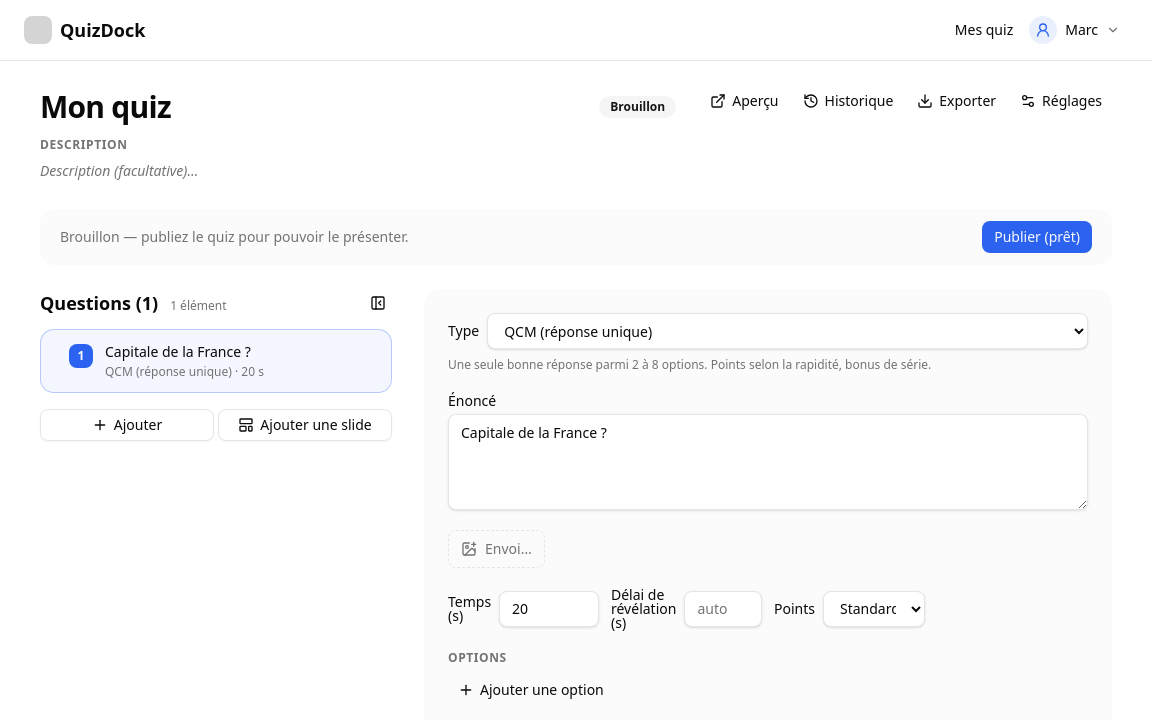
Test case: EditorPage › affiche les avis des joueurs (moyenne + commentaires) côté propriétaire
Click the button "Réglages". click: point(1061, 101)
box: [1010,85,1112,117]
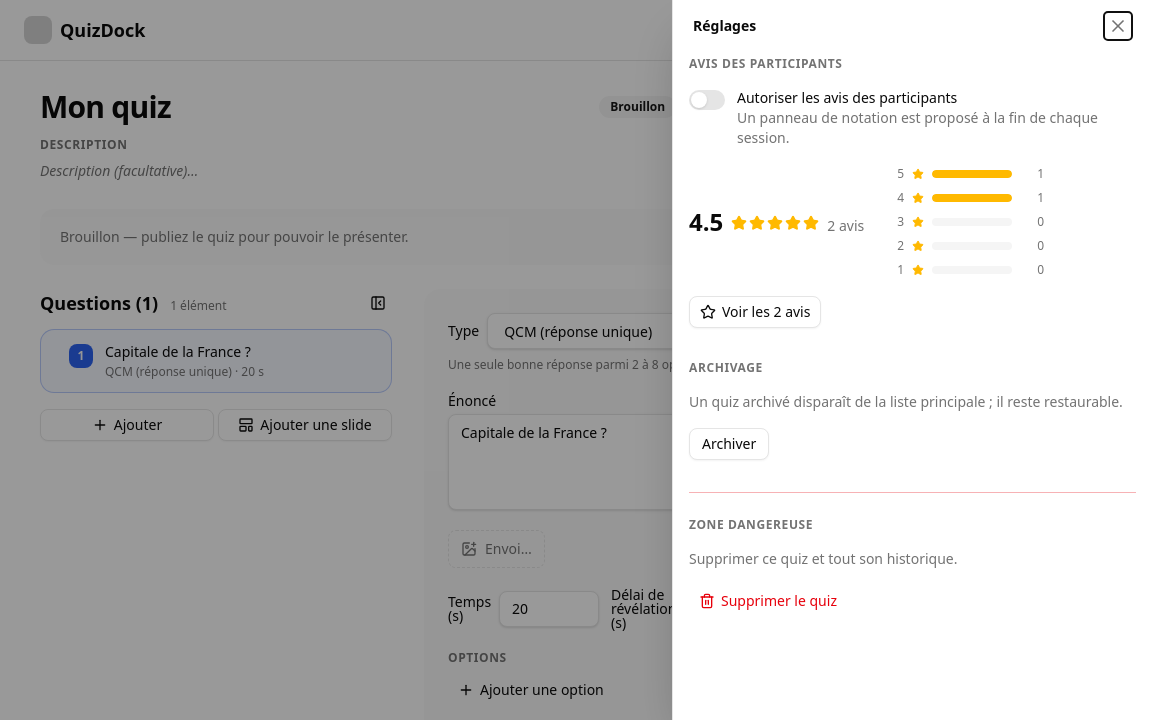
Expected: the text "4.5" is shown, [689,206,723,238]
